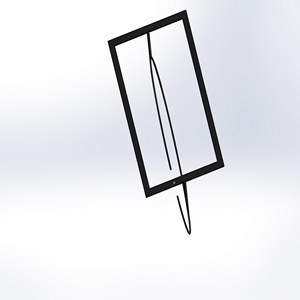circle: (102, 8, 227, 235)
